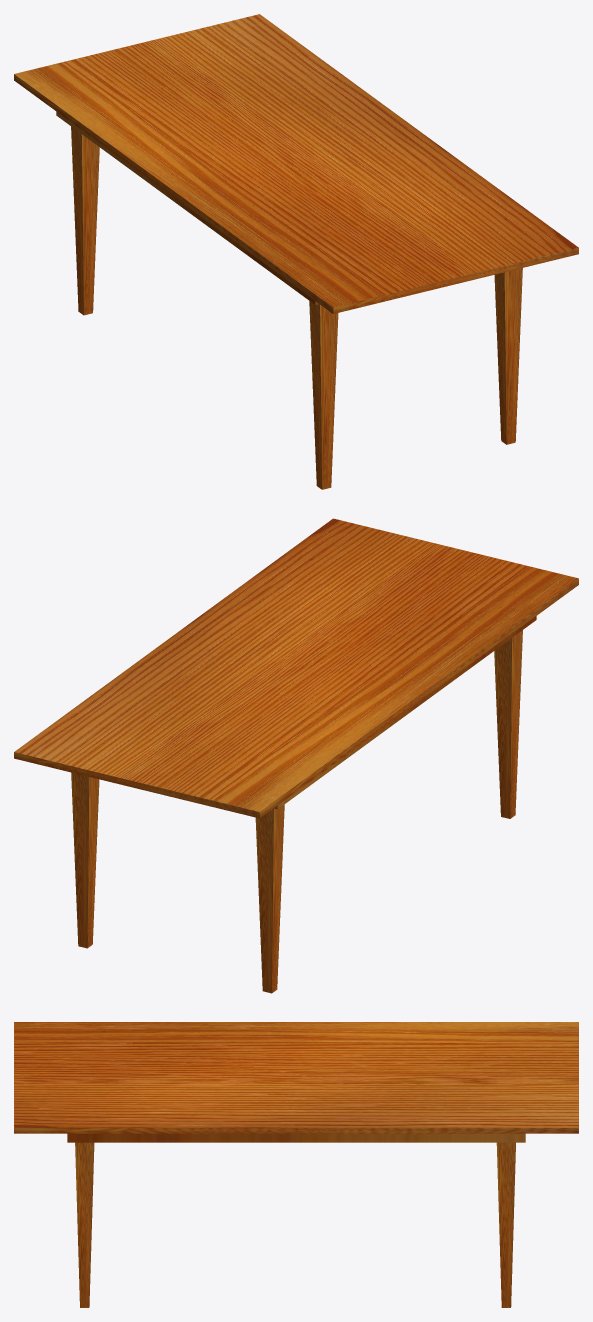
Rendered from table.fbx.
3 views of the same model, one above another, from view 1: azimuth 30°, elevation 25°; view 2: azimuth 150°, elevation 25°; view 3: azimuth 270°, elevation 25° (orthographic). The views are drawn at different scales.
Visible parts, largest first — view 1: table; view 2: table; view 3: table.
Part boxes in pixels (x1,y1,x2,y2): table: [14, 14, 578, 489]; table: [14, 518, 578, 993]; table: [14, 1022, 578, 1307].
Bounding box in the file's own units: 49.11 × 41.23 × 111.
